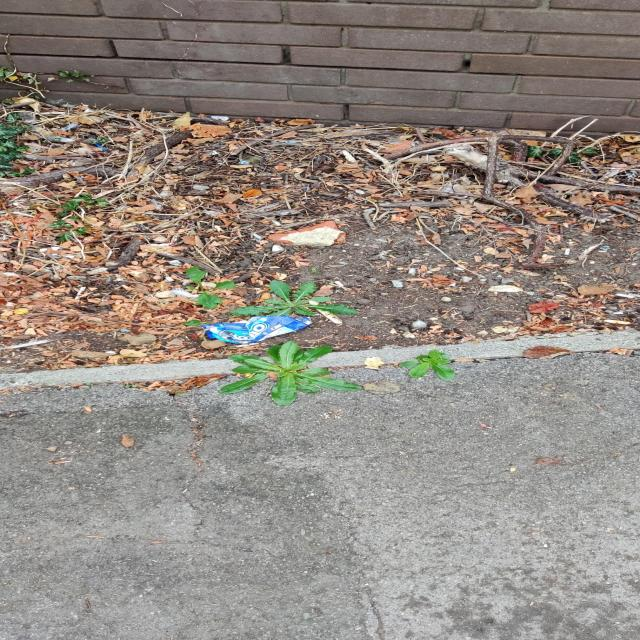litter: (202, 315, 313, 344)
